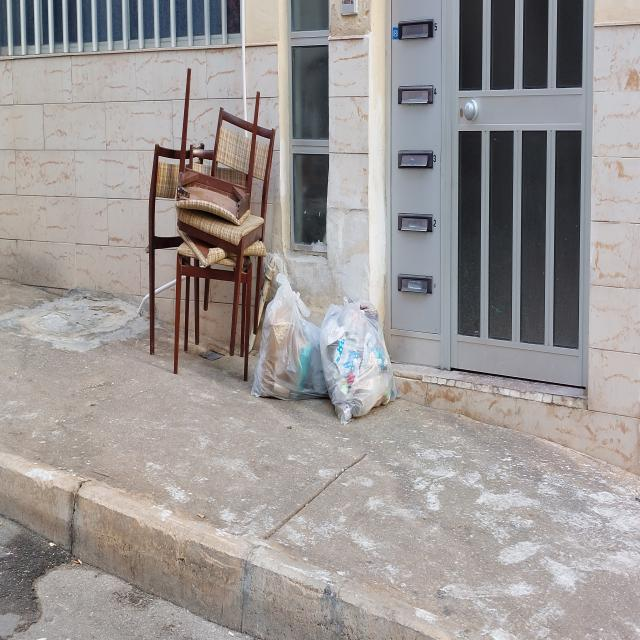Organic Waste -White Bag-: (322, 300, 395, 423), (252, 292, 324, 401)
Other: (145, 97, 279, 383)
